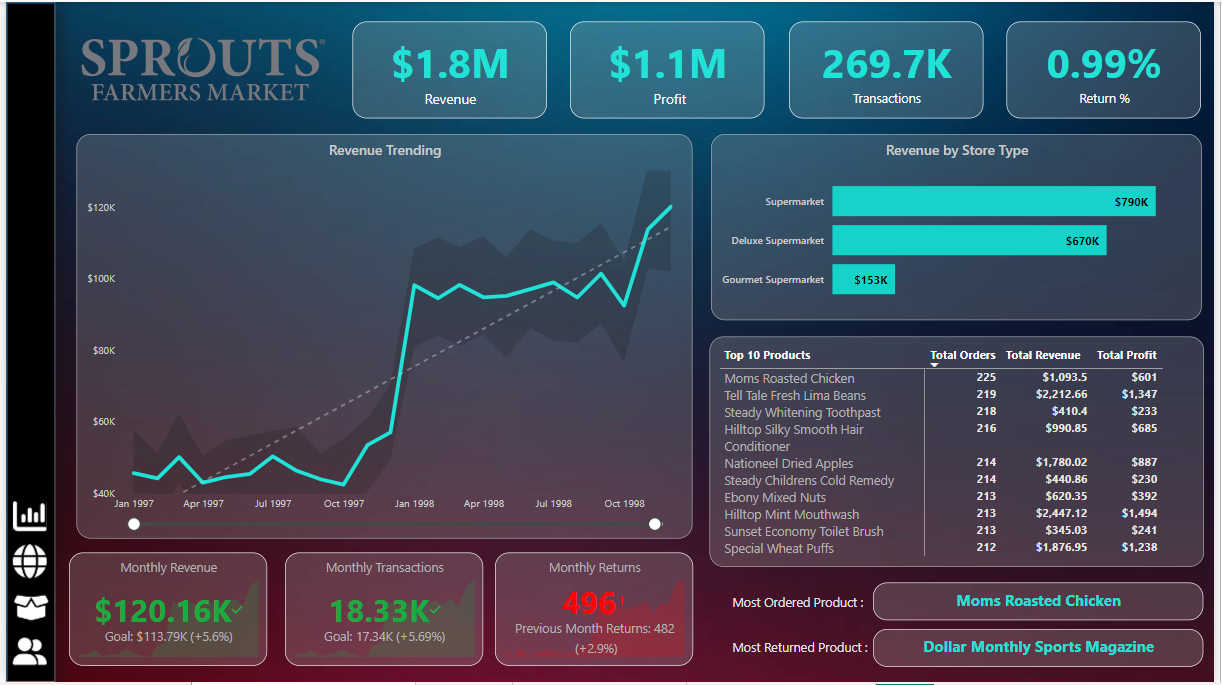

Layout of this report page (visuals, bound fields, positions):
{"tool":"powerbi","page":{"name":"Revenue Dashboard","canvas":[1280,720],"ordinal":0},"visuals":[{"type":"actionButton","box":[3.7,522.5,45,43.8],"z":0,"group":"g1"},{"type":"card","fields":{"Values":["Measures Table.Total Revenue"]},"box":[367.5,21.2,206.2,102.5],"z":0},{"type":"shape","box":[0,0,51.9,720],"z":1000},{"type":"actionButton","box":[3.7,570.2,45,43.8],"z":1000,"group":"g1"},{"type":"card","fields":{"Values":["Measures Table.Total Profit"]},"box":[598.3,21.2,206.2,102.5],"z":2000},{"type":"actionButton","box":[4.9,619.7,45,43.8],"z":2000,"group":"g1"},{"type":"card","fields":{"Values":["Measures Table.Total Transactions"]},"box":[829,21.2,206.2,102.5],"z":3000},{"type":"actionButton","box":[3.7,665.5,45,43.8],"z":3000,"group":"g1"},{"type":"lineChart","title":"Revenue Trending","fields":{"Y":["Measures Table.Total Revenue"],"Category":["Calendar.Calender date hierarchy.Start of Month"]},"box":[75,140,652.5,428.8],"z":4000},{"type":"card","fields":{"Values":["Measures Table.Return Rate"]},"box":[1059.8,21.2,206.2,102.5],"z":5000},{"type":"clusteredBarChart","title":"Revenue by Store Type","fields":{"Y":["Measures Table.Total Revenue"],"Category":["Stores.store_type"]},"box":[746.2,140,520,197.5],"z":6000},{"type":"kpi","title":"Monthly Revenue","fields":{"TrendLine":["Calendar.Calender date hierarchy.Start of Month"],"Indicator":["Measures Table.Total Revenue"],"Goal":["Measures Table.Last Month Revenue"]},"box":[66.2,583.8,210,120],"z":7000},{"type":"kpi","title":"Monthly Returns","fields":{"TrendLine":["Calendar.Calender date hierarchy.Start of Month"],"Indicator":["Measures Table.Total Returns"],"Goal":["Measures Table.Last Month Returns"]},"box":[517.5,583.8,210,120],"z":8000},{"type":"kpi","title":"Monthly Transactions","fields":{"TrendLine":["Calendar.Calender date hierarchy.Start of Month"],"Indicator":["Measures Table.Total Transactions"],"Goal":["Measures Table.Last Month Transactions"]},"box":[296.2,583.8,210,120],"z":9000},{"type":"pivotTable","title":"Revenue by Store Type","fields":{"Rows":["Products.product_name"],"Values":["Measures Table.Total Transactions","Measures Table.Total Revenue","Measures Table.Total Profit"]},"box":[745,355,523.8,243.8],"z":10000},{"type":"card","fields":{"Values":["Min(Products.product_name)"]},"box":[918.8,615,350,40],"z":11000},{"type":"card","fields":{"Values":["Min(Products.product_name)"]},"box":[918.8,663.8,350,40],"z":12000},{"type":"textbox","box":[765,623.8,167.5,40],"z":13000},{"type":"textbox","box":[765,663.8,167.5,40],"z":14000},{"type":"group","id":"g1","title":"Nav Icons","box":[3.7,522.5,46.2,186.8],"z":15000},{"type":"image","box":[74.7,20.7,273.4,101.7],"z":15001}]}

Visuals, with their boxes in screenshot pixels (x1, y1, x2, y2), scaled from the page's 1280x720 canvas onto the 1222x685 screenshot:
actionButton: <box>4,497,46,539</box>
card - Measures Table.Total Revenue: <box>351,20,548,118</box>
shape: <box>0,0,50,684</box>
actionButton: <box>4,542,46,584</box>
card - Measures Table.Total Profit: <box>571,20,768,118</box>
actionButton: <box>5,590,48,631</box>
card - Measures Table.Total Transactions: <box>791,20,988,118</box>
actionButton: <box>4,633,46,675</box>
"Revenue Trending" lineChart: <box>72,133,695,541</box>
card - Measures Table.Return Rate: <box>1012,20,1209,118</box>
"Revenue by Store Type" clusteredBarChart: <box>712,133,1209,321</box>
"Monthly Revenue" kpi: <box>63,555,264,670</box>
"Monthly Returns" kpi: <box>494,555,695,670</box>
"Monthly Transactions" kpi: <box>283,555,483,670</box>
"Revenue by Store Type" pivotTable: <box>711,338,1211,570</box>
card - Min(Products.product_name): <box>877,585,1211,623</box>
card - Min(Products.product_name): <box>877,632,1211,670</box>
textbox: <box>730,593,890,632</box>
textbox: <box>730,632,890,670</box>
"Nav Icons" group: <box>4,497,48,675</box>
image: <box>71,20,332,116</box>
